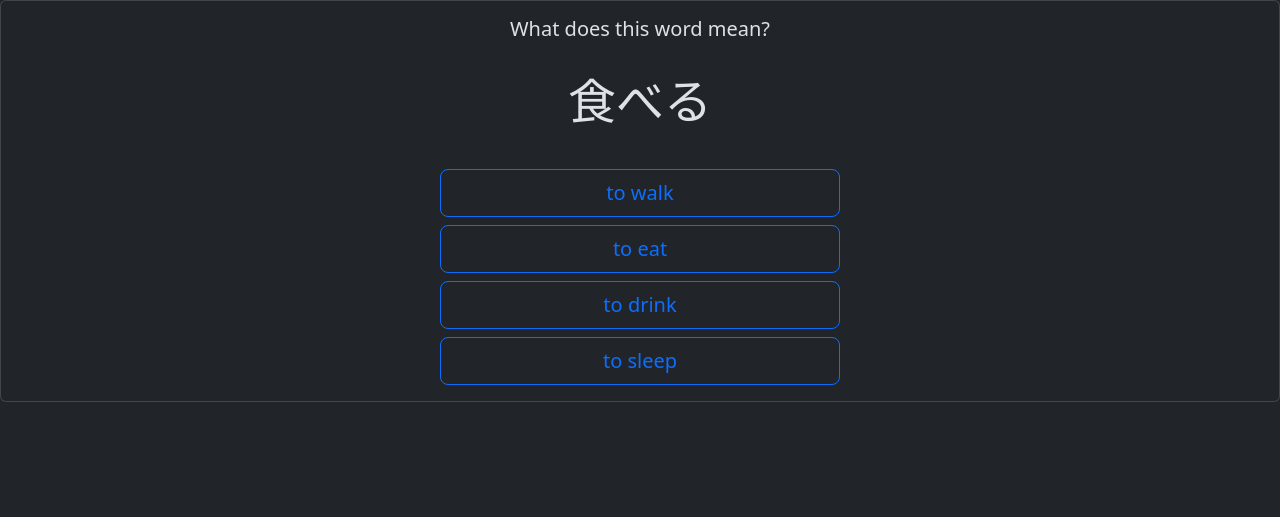
KanjiQuiz › shows success feedback for correct answer
Find and click the correct answer
Click the button "to eat" at (640, 249), box x1=440 y1=225 x2=840 y2=273
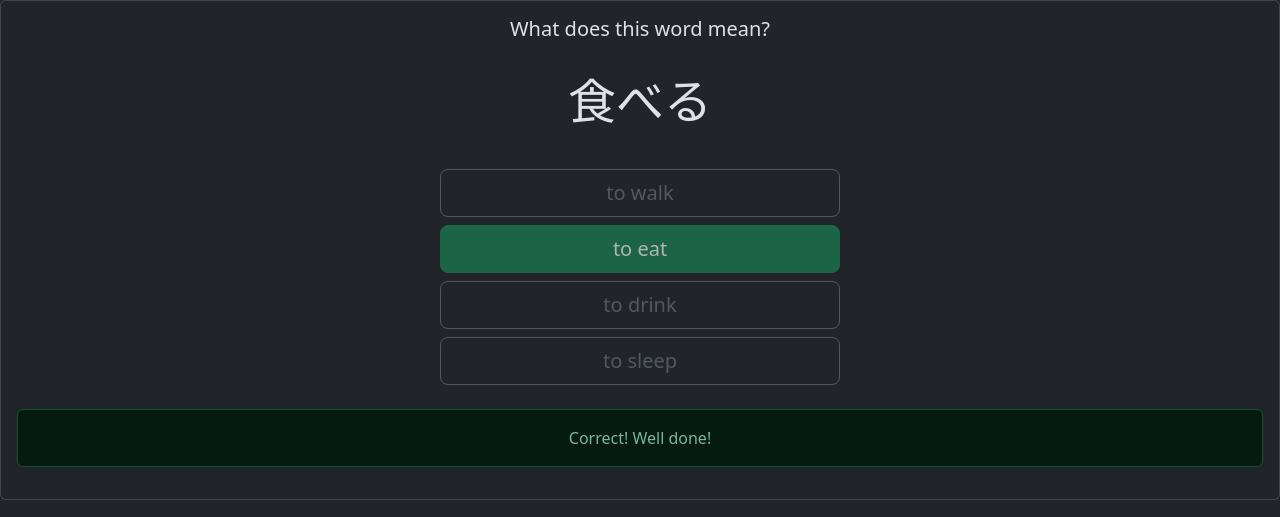
Expected: the message with test id "quiz-feedback" shows "Correct", x1=569 y1=427 x2=711 y2=449
